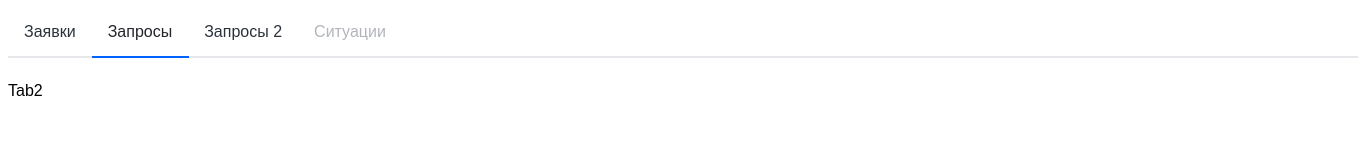
Test case: Test <Tabs/> component › should change active tab to 1st on click
Click the button "Заявки".
click(50, 32)  # box [8,8,92,56]
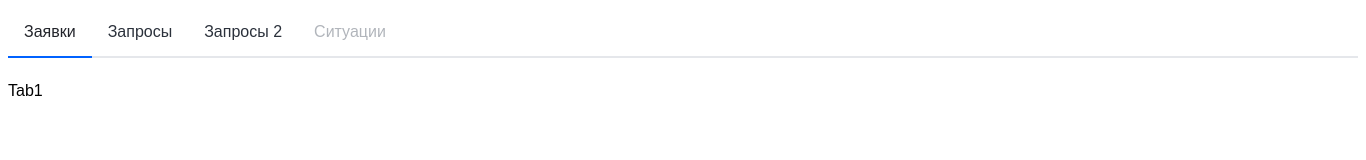
Check: the text "Tab1" is shown, box [8,82,43,99]
